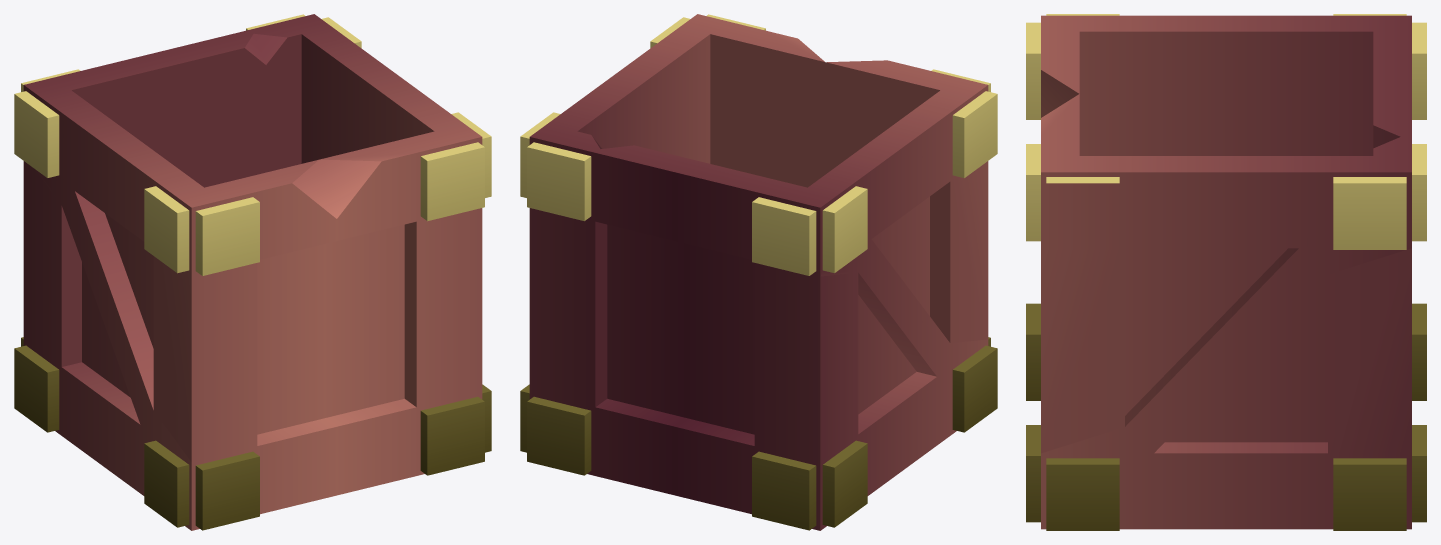
The model's file is OpenedBox.fbx.
The picture shows the model from 3 angles, left to right: view 1: azimuth 30°, elevation 25°; view 2: azimuth 150°, elevation 25°; view 3: azimuth 270°, elevation 25°; orthographic projection. The views are drawn at different scales.
Parts seen in each view (by area): view 1: box-open-final; view 2: box-open-final; view 3: box-open-final.
Boxes of the visible parts, <box> form: box-open-final: <box>14,14,491,530</box>; box-open-final: <box>520,14,997,530</box>; box-open-final: <box>1026,14,1426,530</box>.
Bounding box in the file's own units: 264 × 259 × 264.
